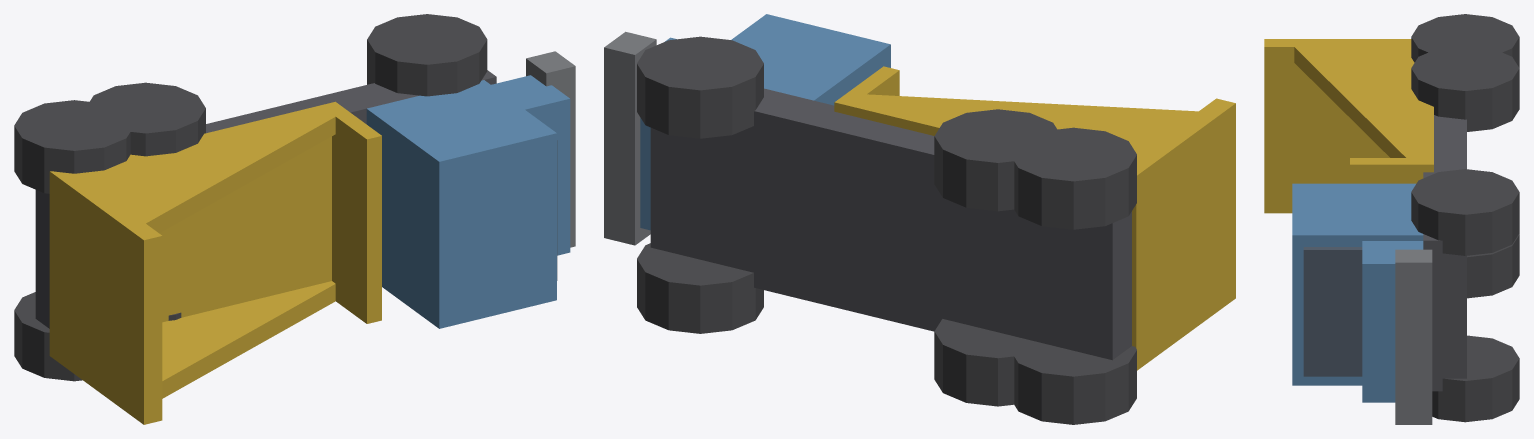
The picture shows the model from 3 angles, left to right: view 1: azimuth 30°, elevation 25°; view 2: azimuth 150°, elevation 25°; view 3: azimuth 270°, elevation 25°; orthographic projection. The views are drawn at different scales.
Visible parts, largest first — view 1: part1, part5, part9, part6, part7, part8, part10, part14, part12, part0, part3, part15 (+1 smaller); view 2: part0, part9, part10, part14, part12, part15, part1, part11, part6, part4, part13, part5 (+2 smaller); view 3: part9, part1, part6, part10, part2, part12, part4, part0, part3, part11, part14, part13 (+2 smaller).
Boxes of the visible parts, x1,y1,x2,y2 form: part1: (366, 80, 556, 328); part5: (49, 101, 346, 363); part9: (61, 180, 162, 424); part6: (61, 110, 346, 248); part7: (61, 281, 335, 415); part8: (332, 110, 381, 323); part10: (367, 14, 487, 96); part14: (14, 100, 134, 193); part12: (86, 82, 205, 156); part0: (35, 70, 496, 328); part3: (491, 75, 570, 255); part15: (14, 292, 82, 381); part0: (650, 88, 1131, 360); part9: (1137, 98, 1235, 360); part10: (637, 36, 763, 138); part14: (1010, 127, 1136, 229); part12: (934, 109, 1060, 211); part15: (1010, 339, 1136, 424); part1: (731, 14, 890, 105); part11: (637, 243, 763, 333); part6: (847, 93, 1222, 185); part4: (604, 31, 656, 245); part13: (934, 319, 1044, 406); part5: (834, 93, 1148, 370); part9: (1264, 39, 1410, 213); part1: (1292, 183, 1423, 385); part6: (1286, 39, 1412, 163); part10: (1411, 169, 1519, 255); part2: (1303, 247, 1362, 376); part12: (1411, 45, 1519, 131); part4: (1395, 249, 1432, 424); part0: (1423, 115, 1466, 391); part3: (1362, 241, 1423, 402); part11: (1432, 335, 1519, 422); part14: (1411, 14, 1519, 67); part13: (1467, 234, 1519, 298).
Size of the model in its own units: 6.12 by 2.62 by 2.92.
